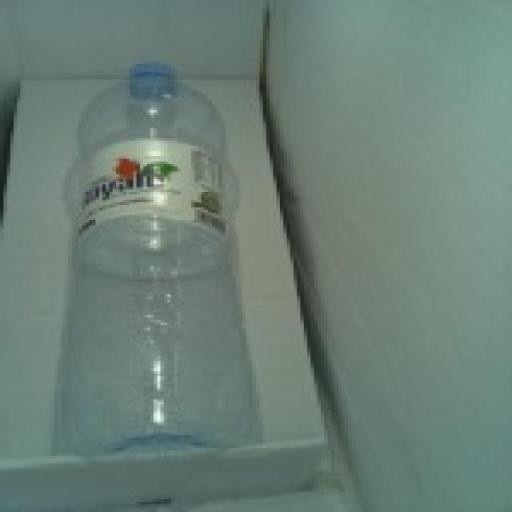plastic: (54, 57, 262, 477)
